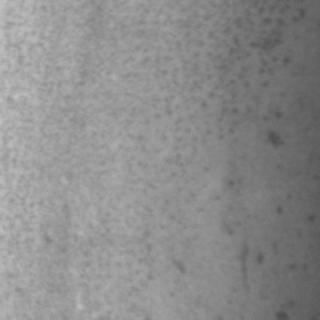pitted_surface: (0, 0, 194, 276), (197, 0, 309, 318)
